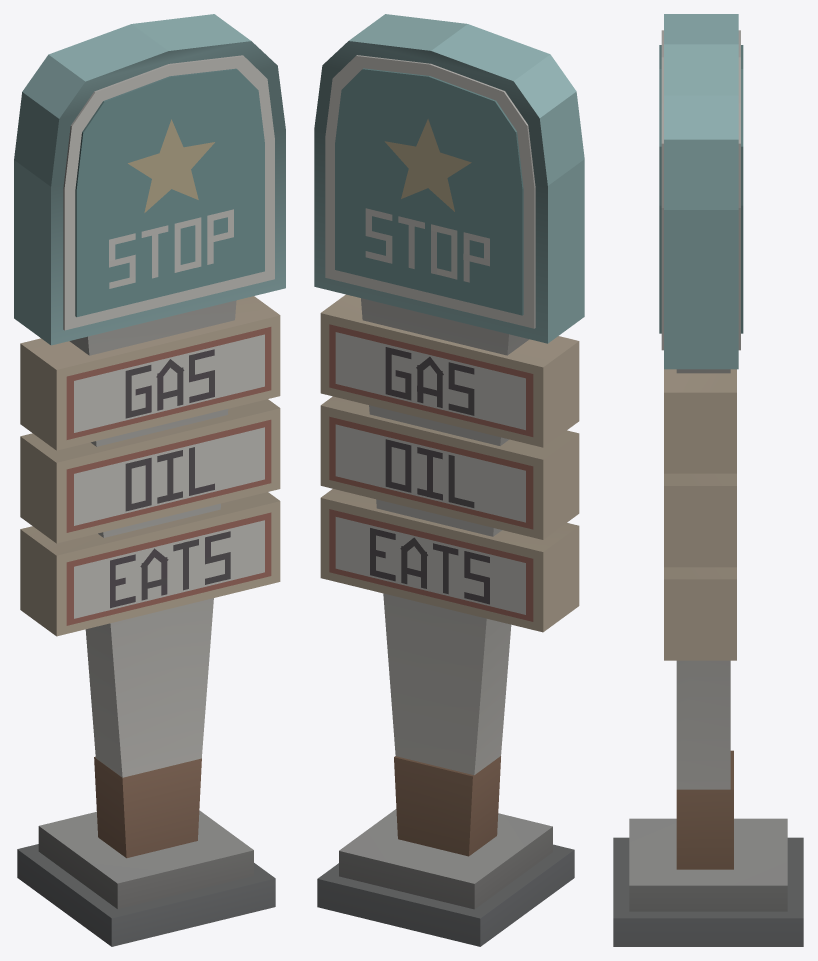
The model's file is pylon.lod1.glb.
3 renders of one model, left to right at view 1: azimuth 30°, elevation 25°; view 2: azimuth 150°, elevation 25°; view 3: azimuth 270°, elevation 25°, orthographic.
Size of the model in its own units: 1.72 by 6 by 1.2.
